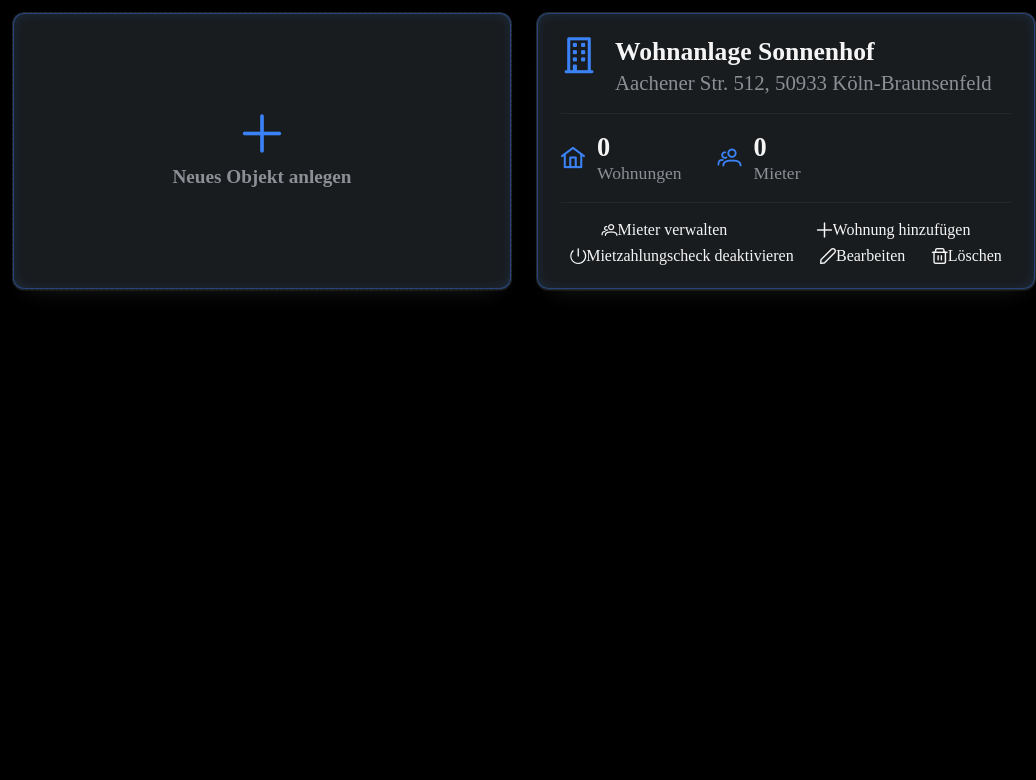
Scenario: PropertyList › shows the failure and keeps the deactivation button when deactivating the rent payment check fails
Click the button "Mietzahlungscheck deaktivieren".
click(682, 256)  # box [561, 247, 803, 265]
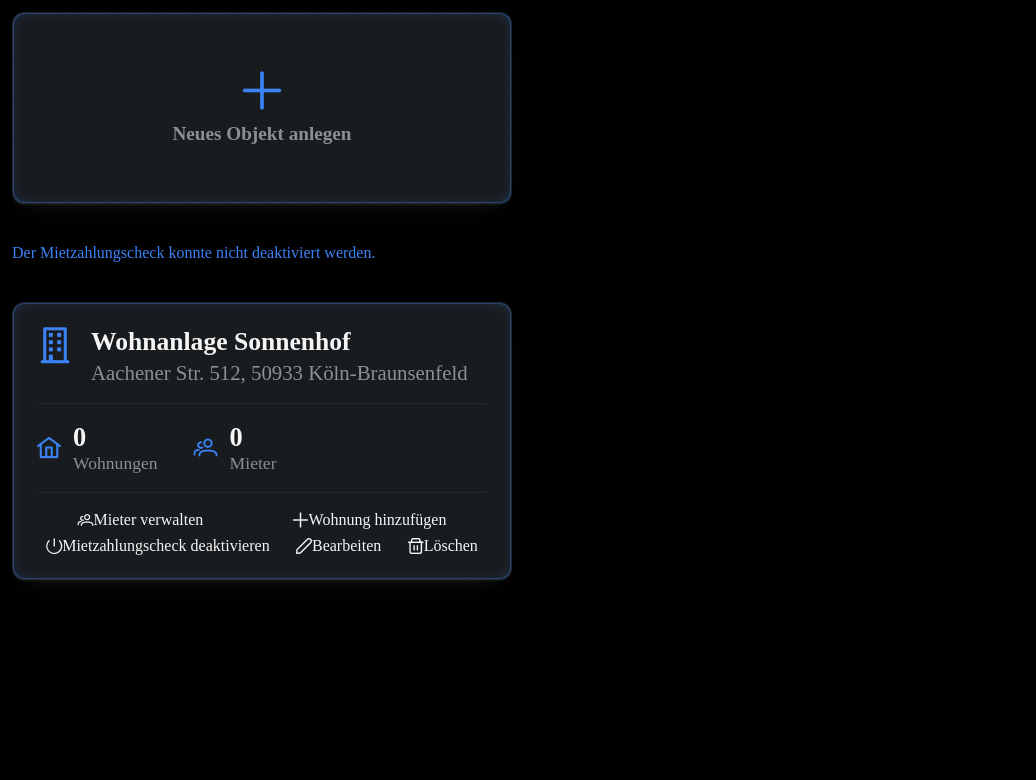
expect the button "Mietzahlungscheck deaktivieren" is shown: met, box [37, 537, 279, 555]
expect the message "Der Mietzahlungscheck konnte nicht deaktiviert werden." is shown: met, box [12, 244, 375, 261]
